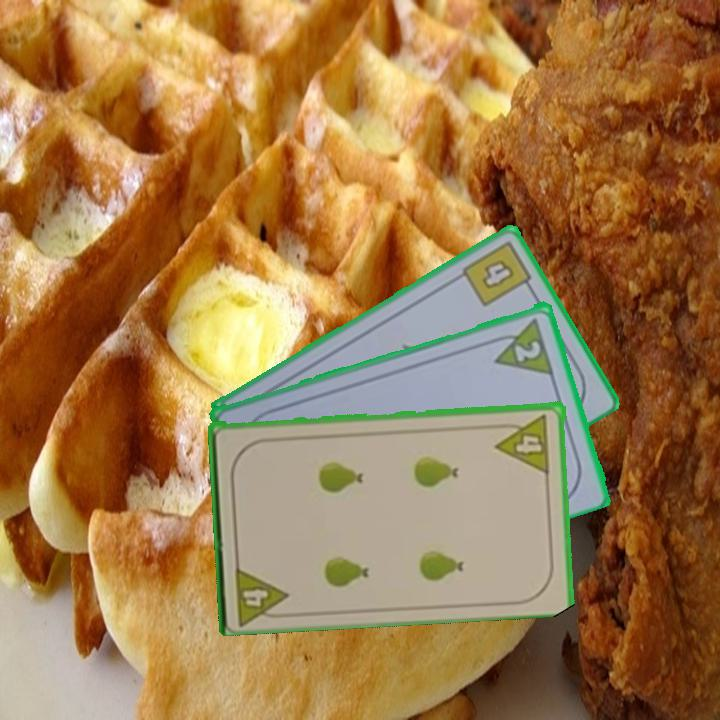2p: (485, 313, 557, 377)
4b: (458, 236, 537, 309)
4p: (231, 560, 293, 625), (493, 410, 553, 475)
